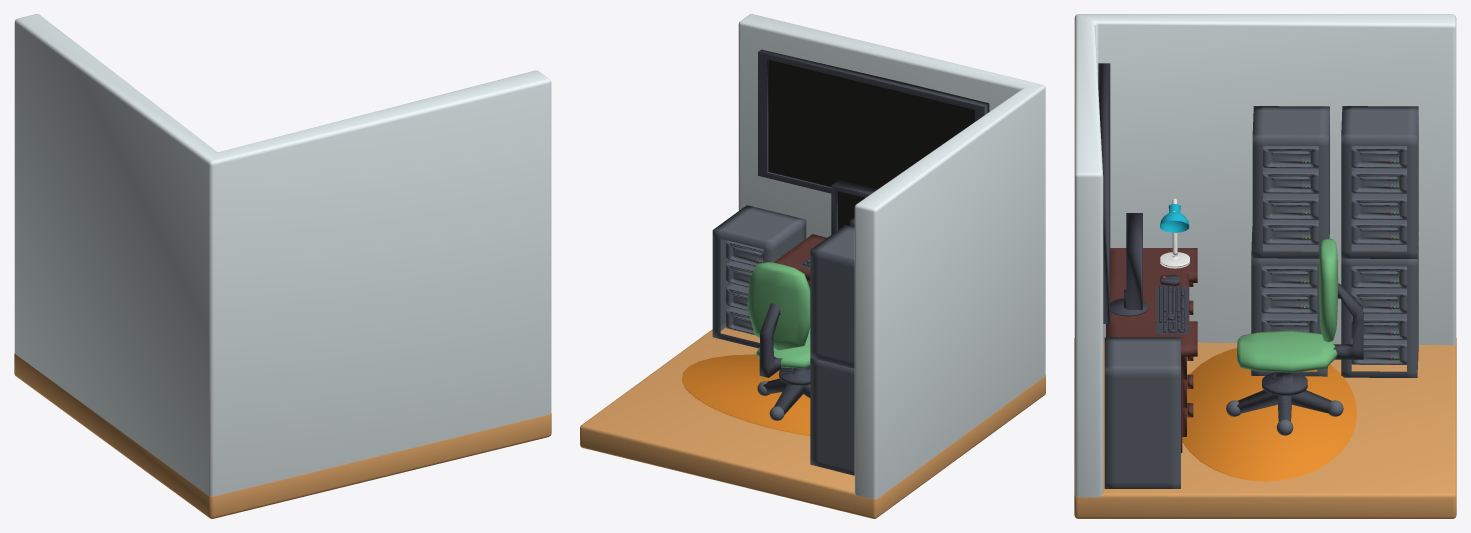
File: Cuarto de camaras 5.fbx
The picture shows the model from 3 angles, left to right: view 1: azimuth 30°, elevation 25°; view 2: azimuth 150°, elevation 25°; view 3: azimuth 270°, elevation 25°; orthographic projection. The views are drawn at different scales.
Parts seen in each view (by area): view 1: Paredes, Piso; view 2: Paredes, Piso, Pantalla, Exterios.003, Circle.001, Exterios, Exterios.002, Base.002, Cube, Interior, Base, Cube.005 (+4 smaller); view 3: Paredes, Piso, Circle.001, Exterios, Exterios.003, Exterios.004, Interior.004, Interior.003, Cube.002, Interior.002, Interior.001, Base asiento (+10 smaller).
Boxes of the visible parts, <box> form: Paredes: <box>14,14,551,496</box>; Piso: <box>14,353,551,518</box>; Paredes: <box>738,14,1045,499</box>; Piso: <box>580,328,1045,518</box>; Pantalla: <box>768,59,974,189</box>; Exterios.003: <box>810,225,854,368</box>; Circle.001: <box>682,354,810,435</box>; Exterios: <box>712,205,806,348</box>; Exterios.002: <box>810,357,854,475</box>; Base.002: <box>747,262,810,350</box>; Cube: <box>758,49,989,193</box>; Interior: <box>726,240,763,335</box>; Base: <box>762,367,810,414</box>; Cube.005: <box>759,303,782,377</box>; Paredes: <box>1074,14,1456,497</box>; Piso: <box>1074,338,1456,518</box>; Circle.001: <box>1182,348,1356,481</box>; Exterios: <box>1104,337,1180,488</box>; Exterios.003: <box>1341,106,1418,258</box>; Exterios.004: <box>1252,106,1329,258</box>; Interior.004: <box>1263,145,1318,244</box>; Interior.003: <box>1351,145,1406,244</box>; Cube.002: <box>1106,248,1197,452</box>; Interior.002: <box>1351,266,1406,364</box>; Interior.001: <box>1261,266,1317,333</box>; Base asiento: <box>1237,330,1337,372</box>.
Size of the model in its own units: 1001 by 1001 by 1001.
